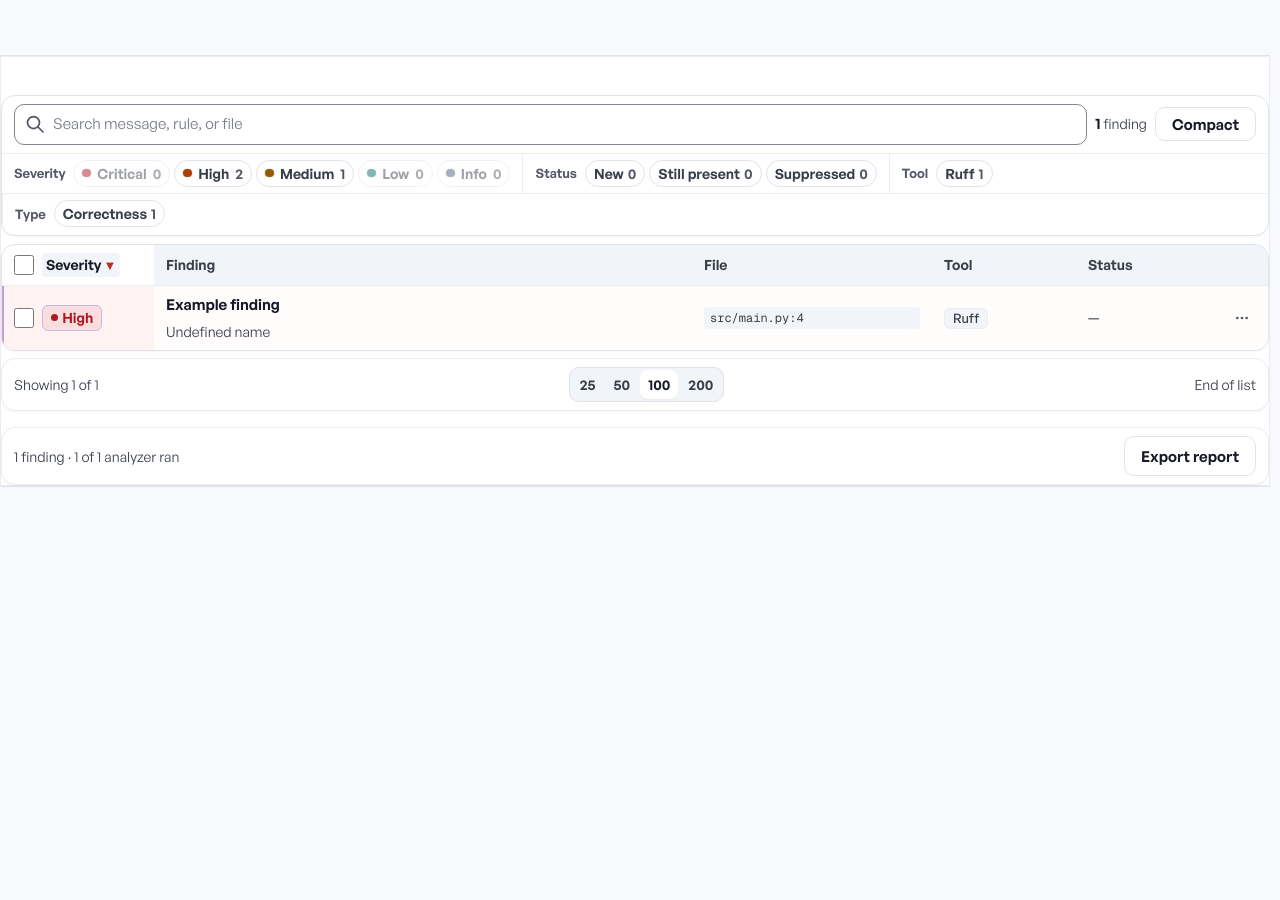
Test: ReportView split pane › preview errors map to friendly copy instead of a raw error panel
The image size is (1280, 900).
Step 1. Click the row "High Example finding Undefined name src/main.py:4 Ruff —" → click(635, 317), box [2,286,1268,349]
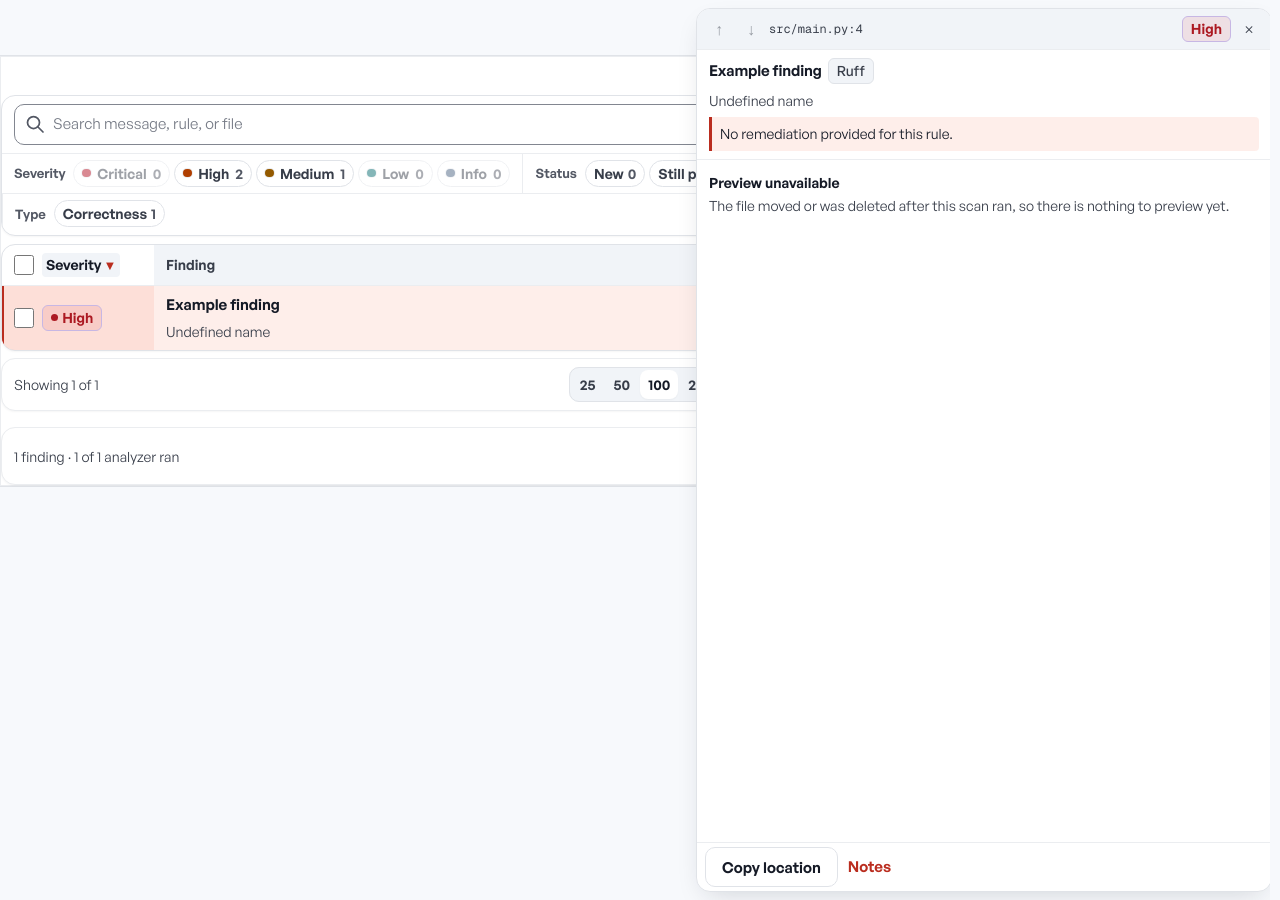
Check: the element with class "source-pane-error" shows "Preview unavailable", box [709,174,840,191]
Check: the element with class "source-pane-error" shows "The file moved or was deleted after this scan ran", box [709,197,1229,214]
